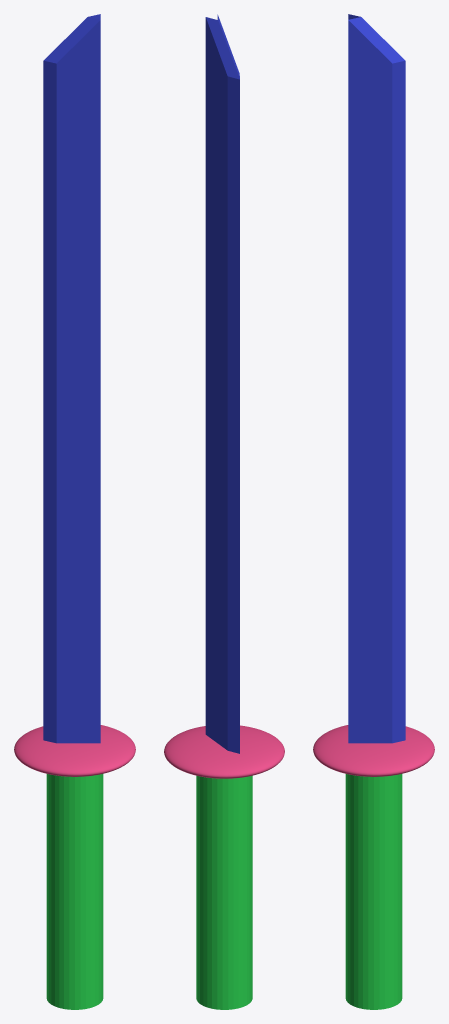
File: Katana.fbx
The picture shows the model from 3 angles, left to right: view 1: azimuth 90°, elevation 25°; view 2: azimuth 210°, elevation 25°; view 3: azimuth 270°, elevation 25°; orthographic projection.
Visible parts, largest first — view 1: Cylinder; view 2: Cylinder; view 3: Cylinder.
Part boxes in pixels (x1,y1,x2,y2): Cylinder: (14, 14, 135, 1009); Cylinder: (164, 14, 284, 1009); Cylinder: (313, 14, 434, 1009).
Bounding box in the file's own units: 200 × 1780 × 200.
